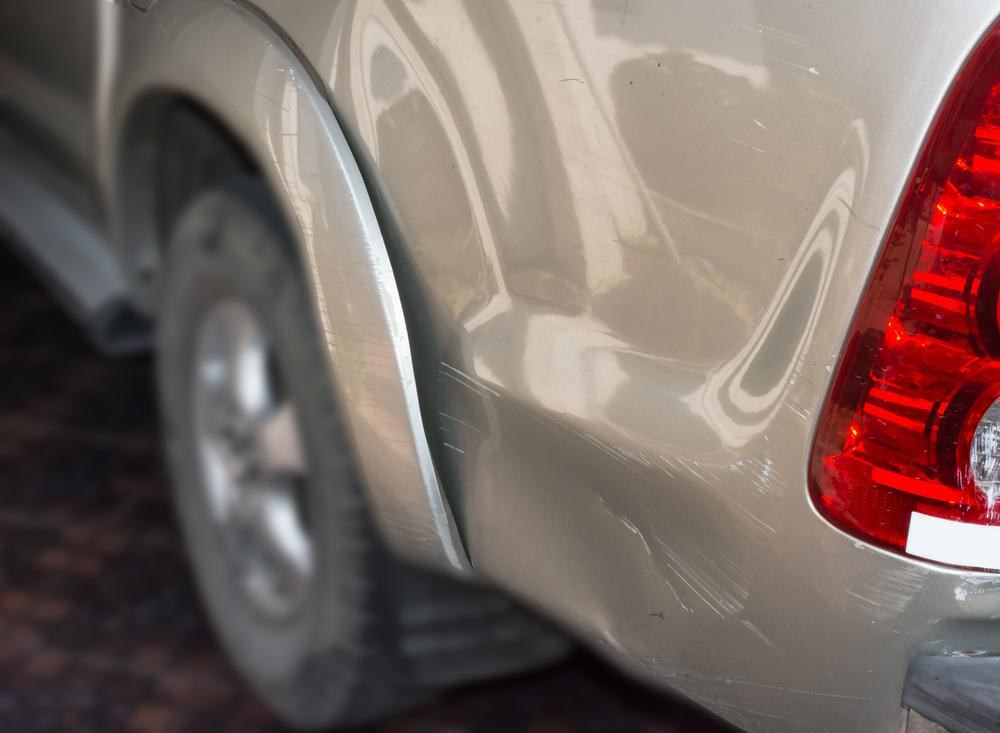dent: (467, 384, 762, 647)
scratch: (260, 79, 449, 551), (716, 342, 830, 551), (642, 655, 869, 731), (838, 560, 934, 625)
